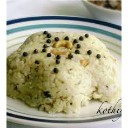venpongal: (9, 31, 117, 111)
